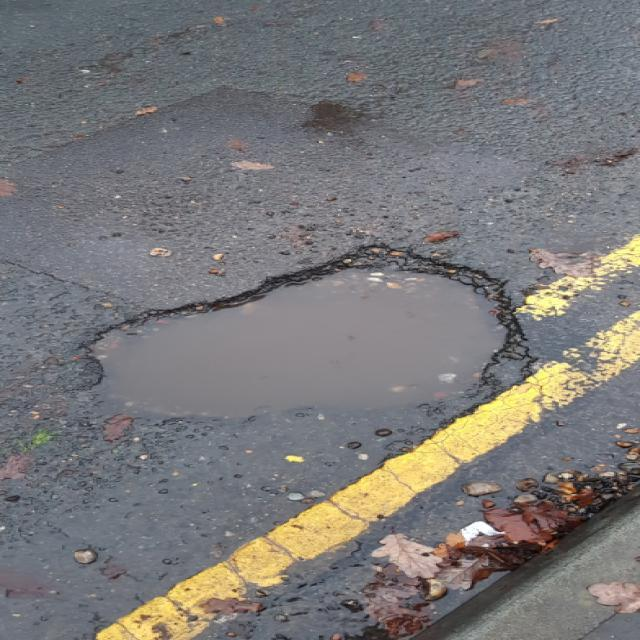pothole: (66, 242, 540, 426)
